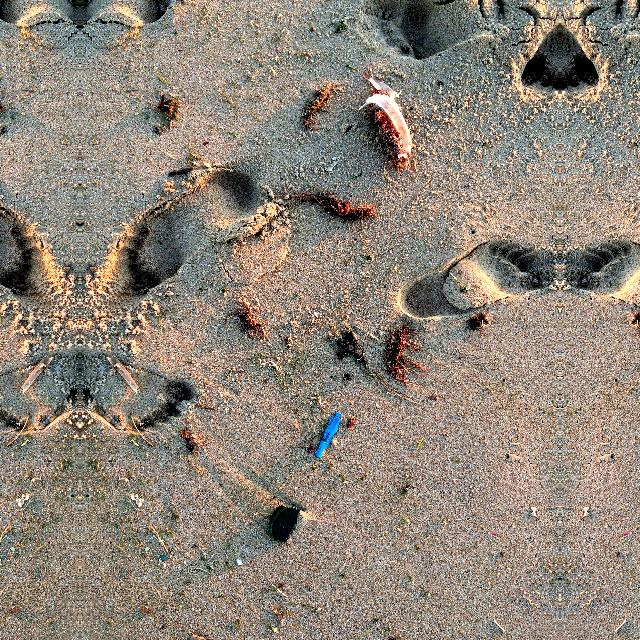Plastic: (265, 496, 309, 550), (309, 410, 346, 466)
